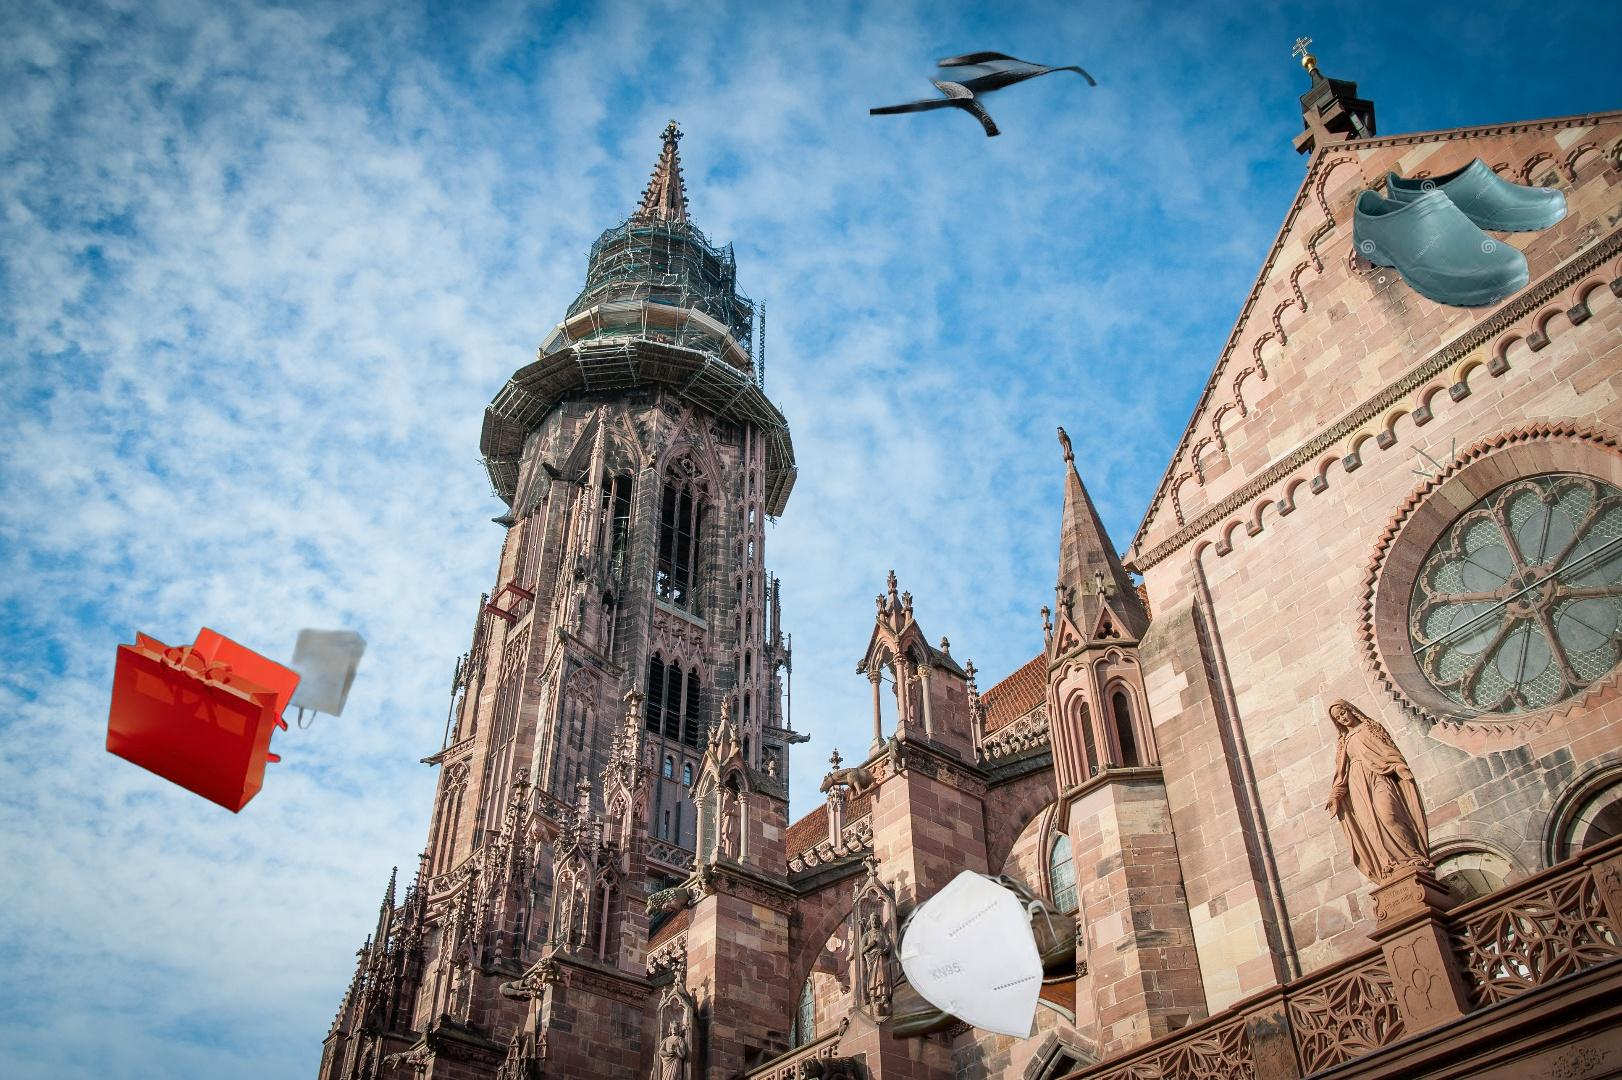paper-bag: (104, 614, 370, 815)
shoes: (870, 18, 1145, 171), (893, 870, 1076, 1080), (1350, 155, 1570, 312)
trash: (853, 865, 1059, 1041)
